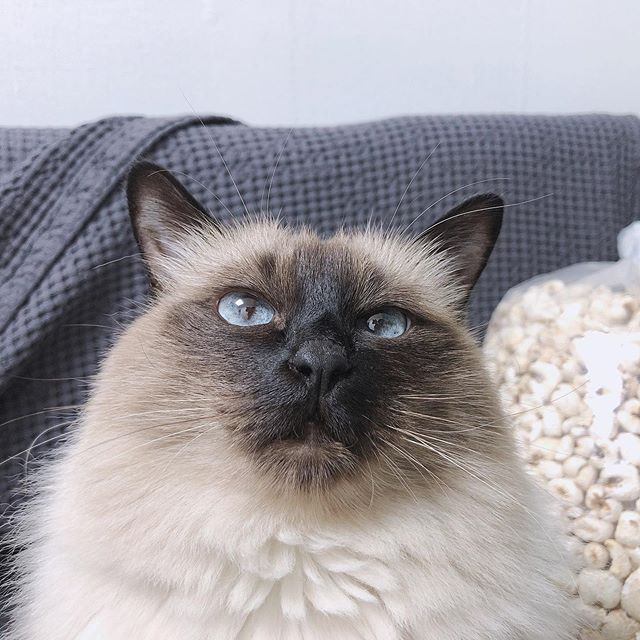cat: (115, 153, 527, 504)
